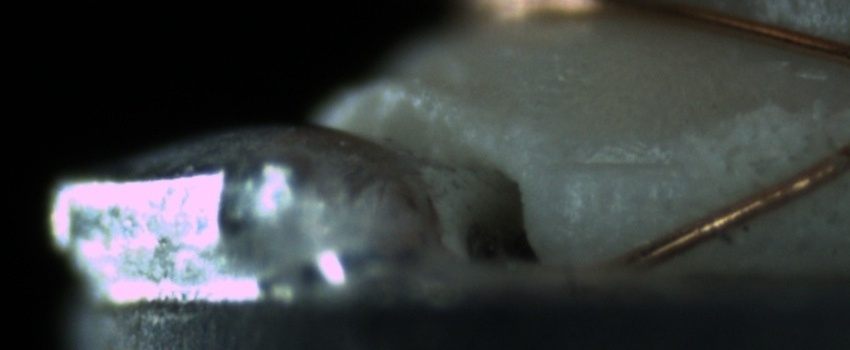DL: (554, 137, 682, 194)
